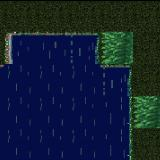Interaction: (0, 17, 108, 40), (124, 50, 146, 160), (0, 40, 19, 74), (92, 50, 124, 70), (91, 40, 108, 50)
Slow: (1, 66, 128, 160), (14, 36, 96, 66), (100, 30, 133, 64), (133, 95, 160, 128)
